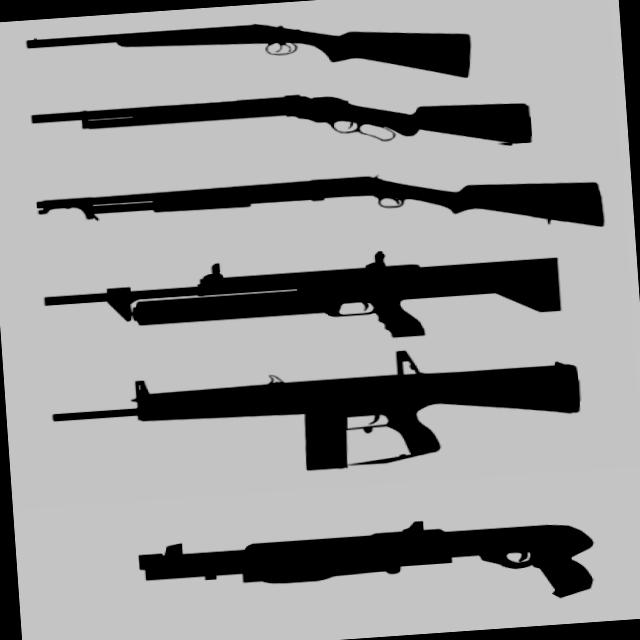long weapon: (23, 338, 608, 496), (18, 239, 602, 373), (2, 68, 559, 192), (18, 157, 614, 270), (6, 0, 492, 113), (119, 504, 610, 600)
